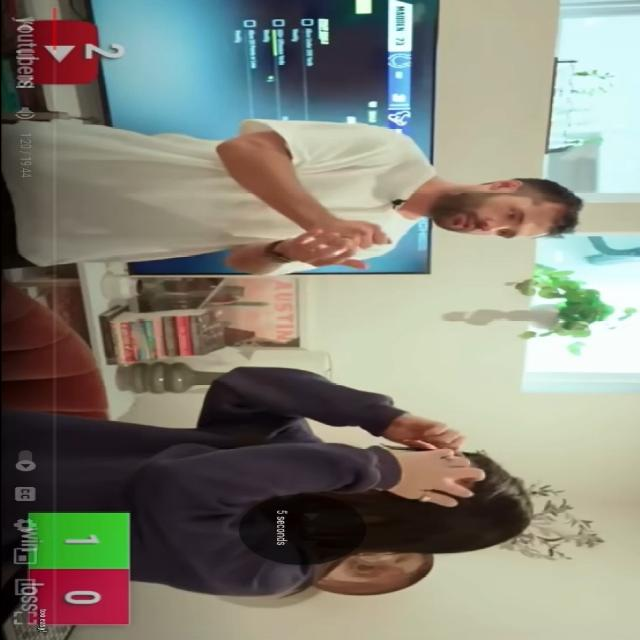Rock: (300, 220, 392, 253)
